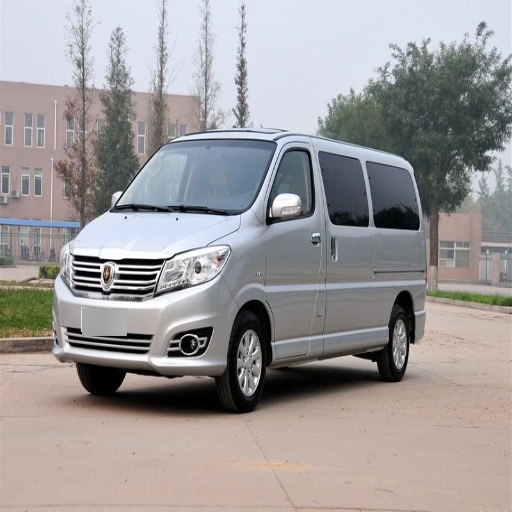front_bumper: (54, 243, 237, 375)
front_glass: (113, 140, 275, 214)
front_left_door: (265, 142, 325, 355)
trunk: (348, 232, 423, 325)
